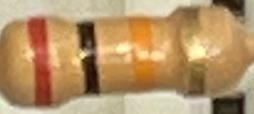Brown: (77, 21, 107, 99)
Orange: (128, 18, 158, 94)
Red: (28, 14, 56, 106)
Side-Gold: (182, 8, 209, 96)
